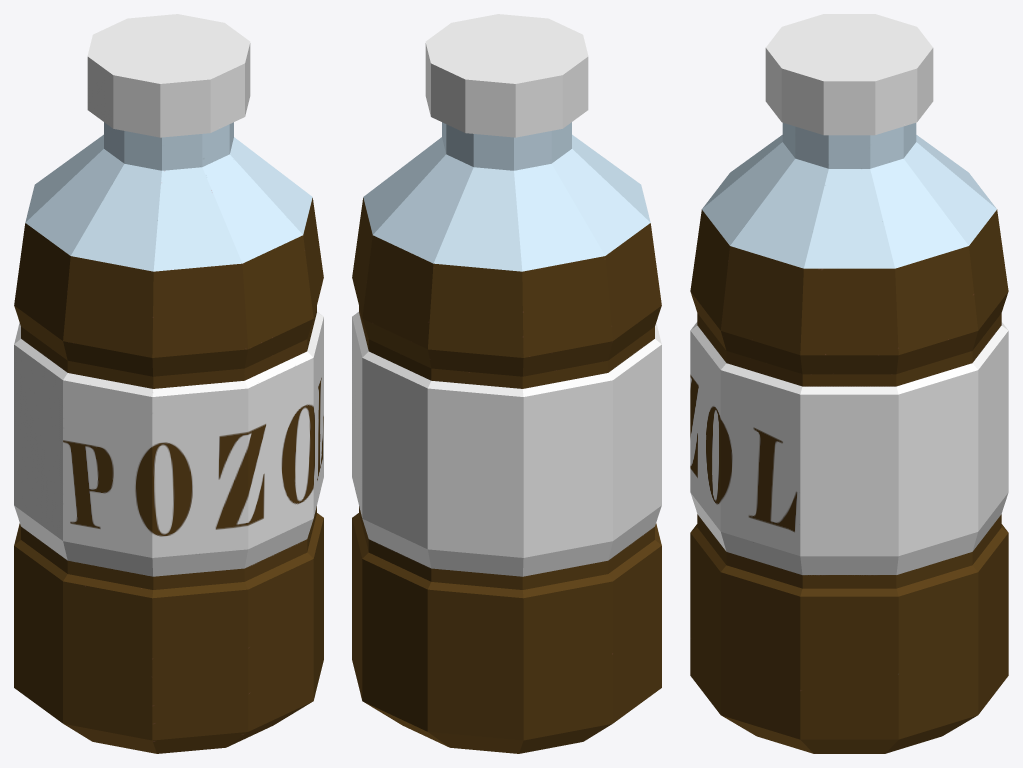
The model's file is BotellaPozol.fbx.
The picture shows the model from 3 angles, left to right: view 1: azimuth 30°, elevation 25°; view 2: azimuth 150°, elevation 25°; view 3: azimuth 270°, elevation 25°; orthographic projection.
Parts seen in each view (by area): view 1: p1_botella_agua_pozol; view 2: p1_botella_agua_pozol; view 3: p1_botella_agua_pozol.
Part boxes in pixels (x1=…): p1_botella_agua_pozol: x1=14, y1=14, x2=323, y2=753; p1_botella_agua_pozol: x1=352, y1=14, x2=661, y2=753; p1_botella_agua_pozol: x1=690, y1=14, x2=1008, y2=753.
Bounding box in the file's own units: 0.2036 × 0.49 × 0.2141.
